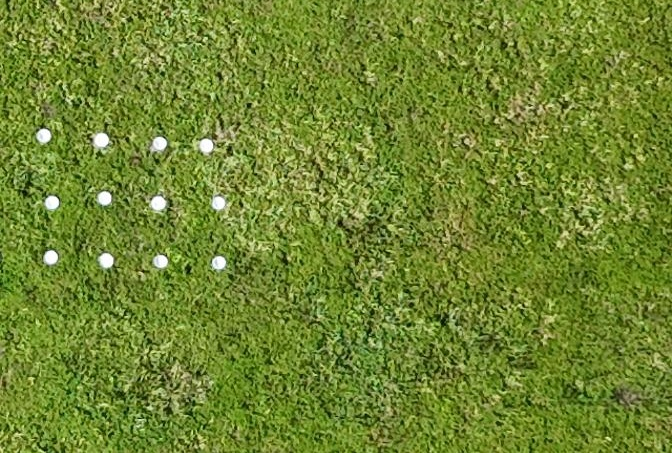bowl: (98, 252, 114, 269), (93, 132, 110, 148), (150, 195, 167, 211), (36, 128, 52, 144), (45, 194, 60, 210), (153, 254, 169, 269), (43, 250, 58, 265), (212, 255, 227, 270), (152, 136, 168, 150), (98, 191, 112, 206), (212, 196, 226, 210), (200, 138, 213, 153)
